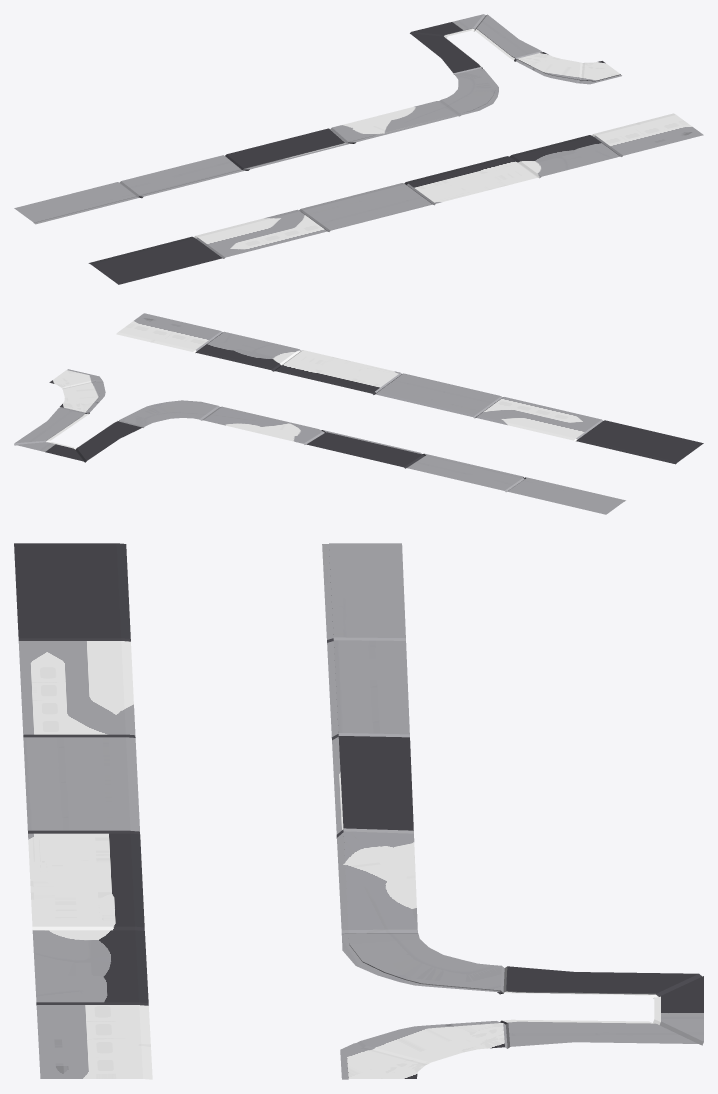
The model's file is Road.fbx.
The picture shows the model from 3 angles, top to bottom: view 1: azimuth 30°, elevation 25°; view 2: azimuth 150°, elevation 25°; view 3: azimuth 270°, elevation 25°; orthographic projection. The views are drawn at different scales.
Visible parts, largest first — view 1: Pavement; view 2: Pavement; view 3: Pavement.
Part boxes in pixels (box(x1,y1,x2,y2)): Pavement: box(14, 14, 703, 284); Pavement: box(14, 313, 703, 514); Pavement: box(14, 543, 703, 1079).
Size of the model in its own units: 4920 by 13.17 by 2678.
